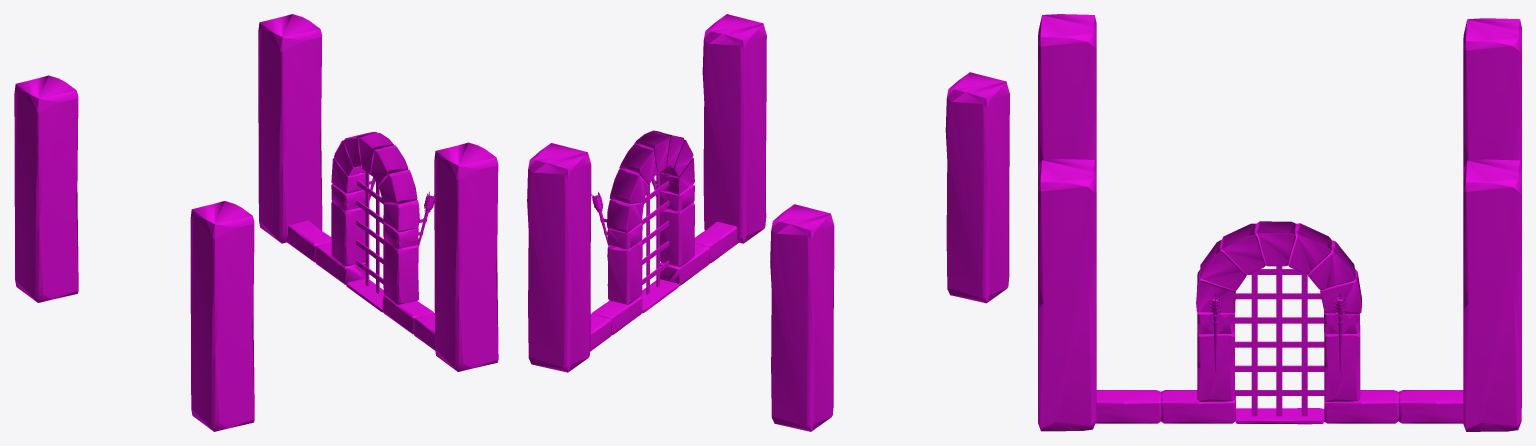
File: doorforpainter.fbx
3 renders of one model, left to right at view 1: azimuth 30°, elevation 25°; view 2: azimuth 150°, elevation 25°; view 3: azimuth 270°, elevation 25°, orthographic. The views are drawn at different scales.
Visible parts, largest first — view 1: polySurface33; view 2: polySurface33; view 3: polySurface33.
Boxes of the visible parts, <box> form: polySurface33: <box>14,14,498,431</box>; polySurface33: <box>527,14,1009,431</box>; polySurface33: <box>1038,14,1521,431</box>.
Size of the model in its own units: 431 by 289 by 506.
